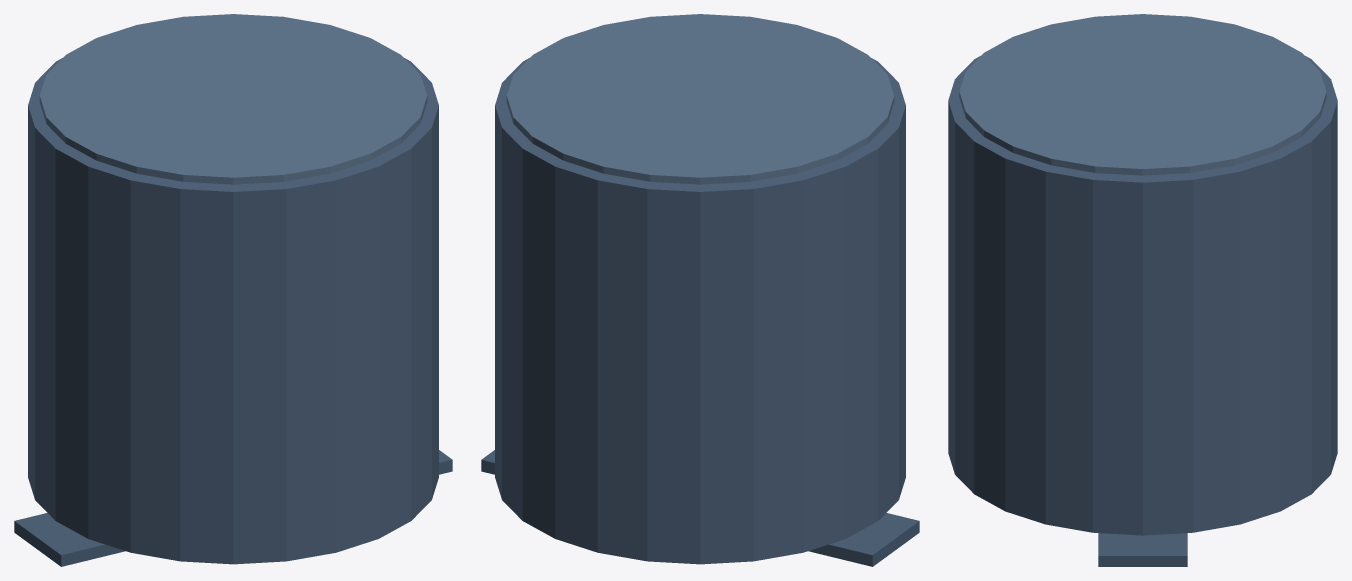
The picture shows the model from 3 angles, left to right: view 1: azimuth 30°, elevation 25°; view 2: azimuth 150°, elevation 25°; view 3: azimuth 270°, elevation 25°; orthographic projection. The views are drawn at different scales.
Visible parts, largest first — view 1: 054_L103_C5; view 2: 054_L103_C5; view 3: 054_L103_C5.
Part boxes in pixels (x1,y1,x2,y2): 054_L103_C5: [14, 14, 452, 566]; 054_L103_C5: [481, 14, 919, 566]; 054_L103_C5: [948, 14, 1337, 566].
Size of the model in its own units: 0.77 by 0.7635 by 0.7.
